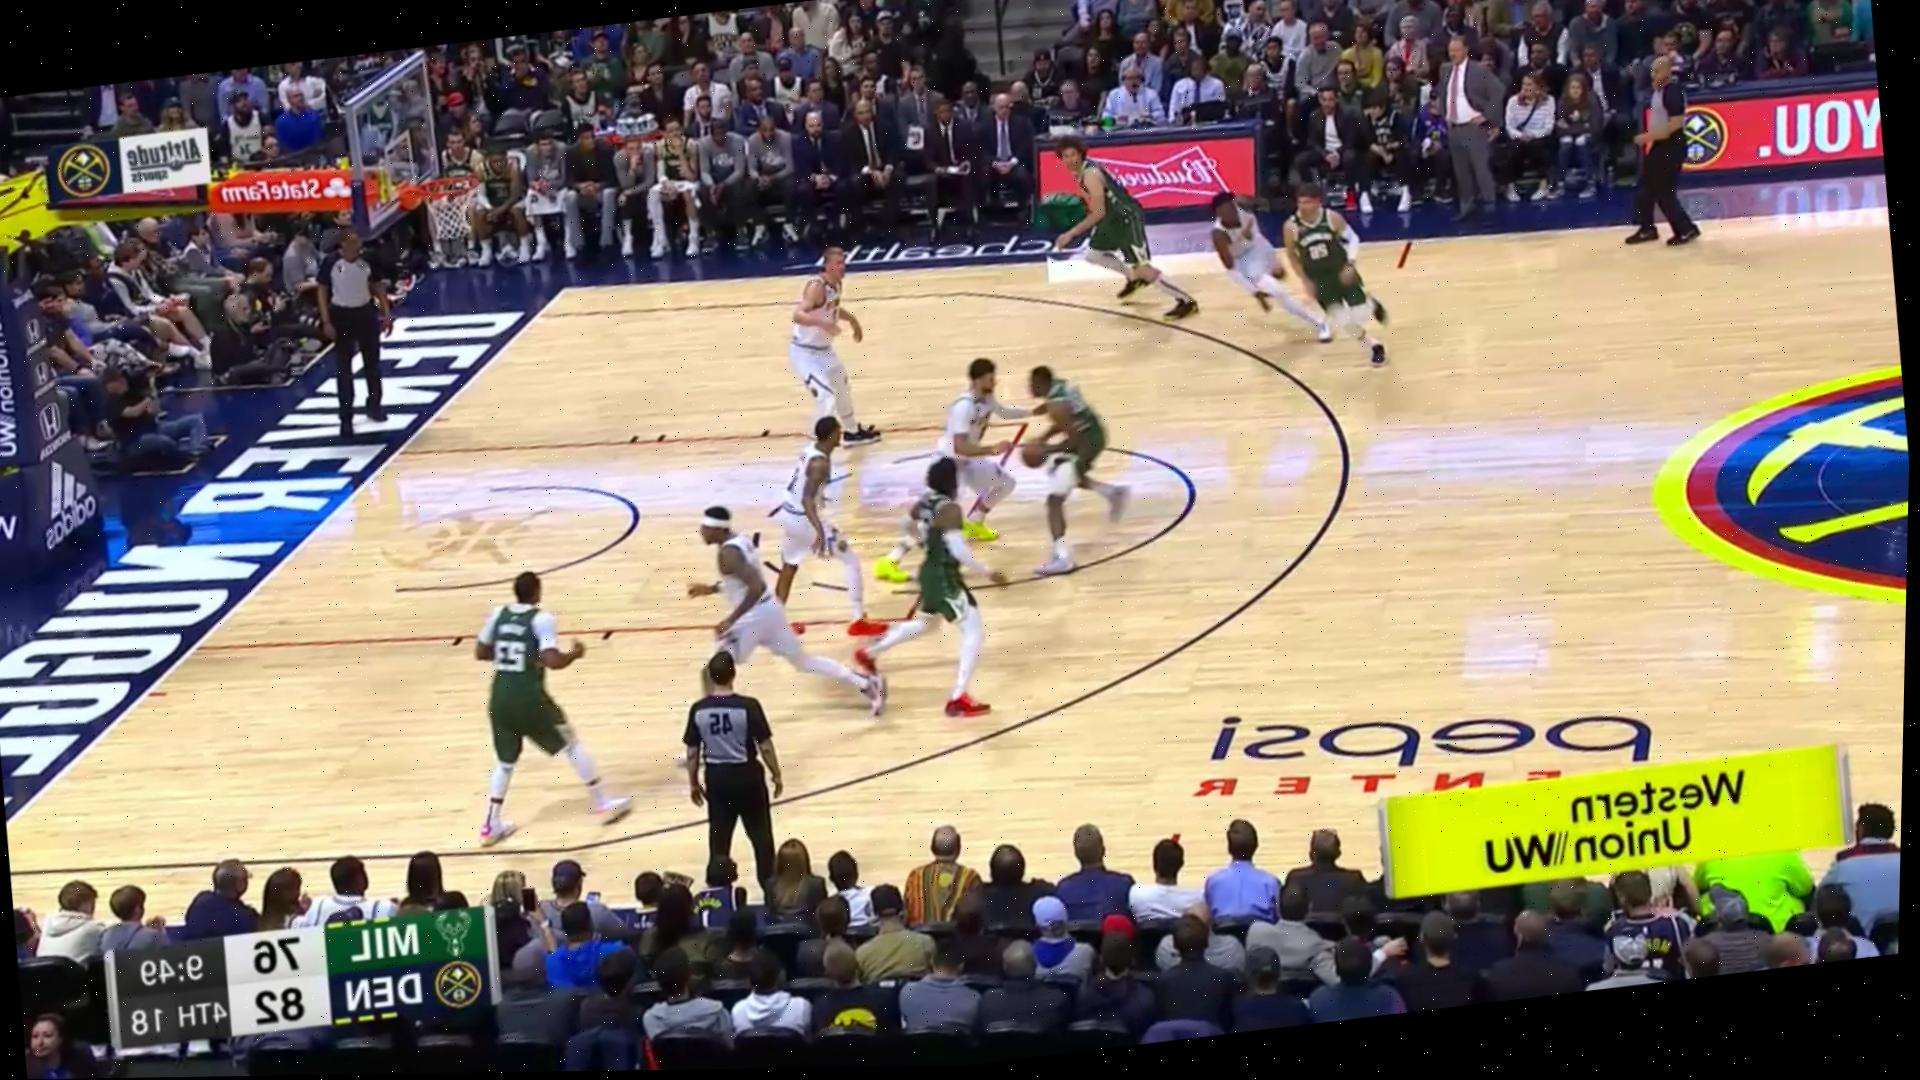no_foul: (949, 328, 1105, 564)
